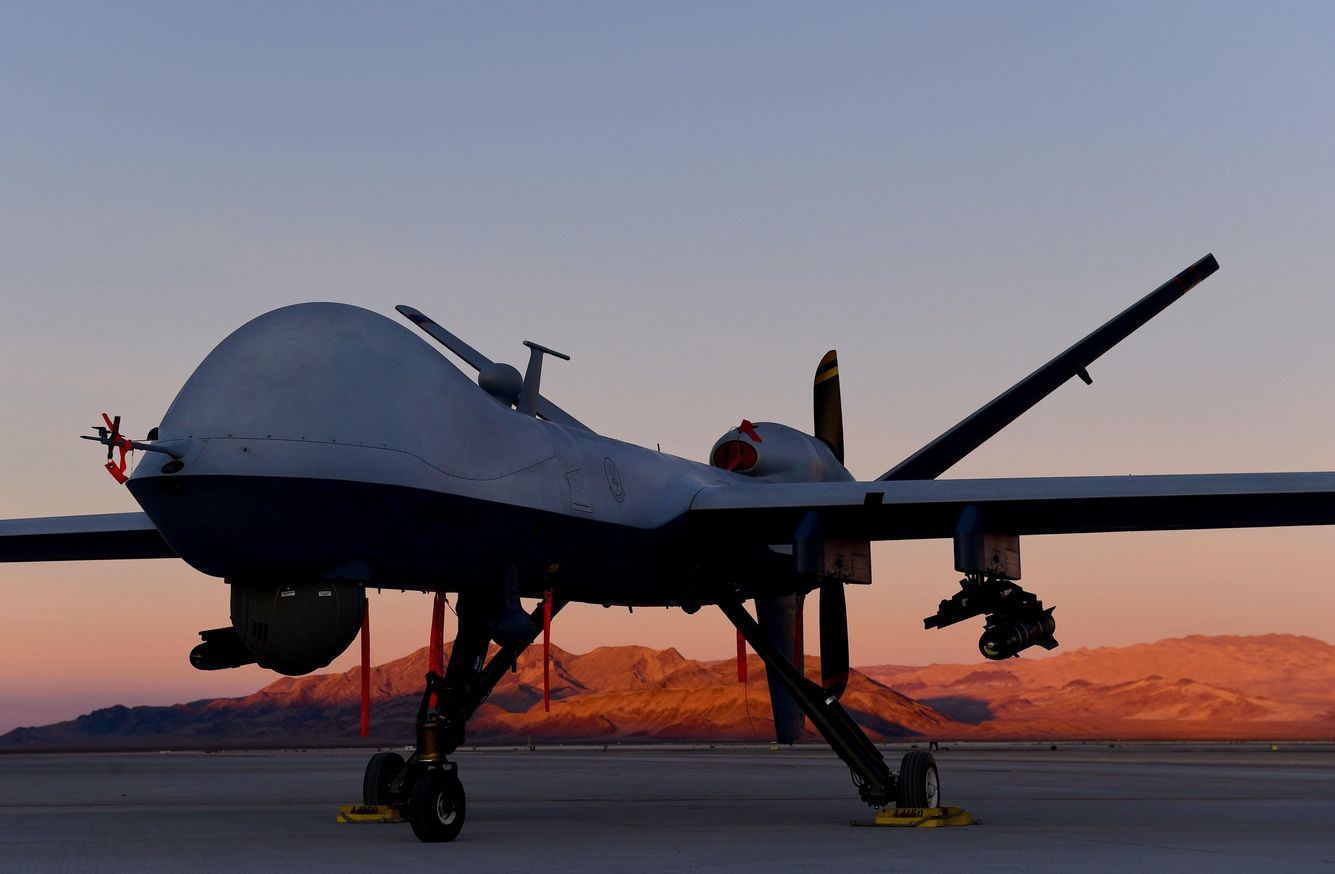aircraft: (17, 303, 1308, 839)
